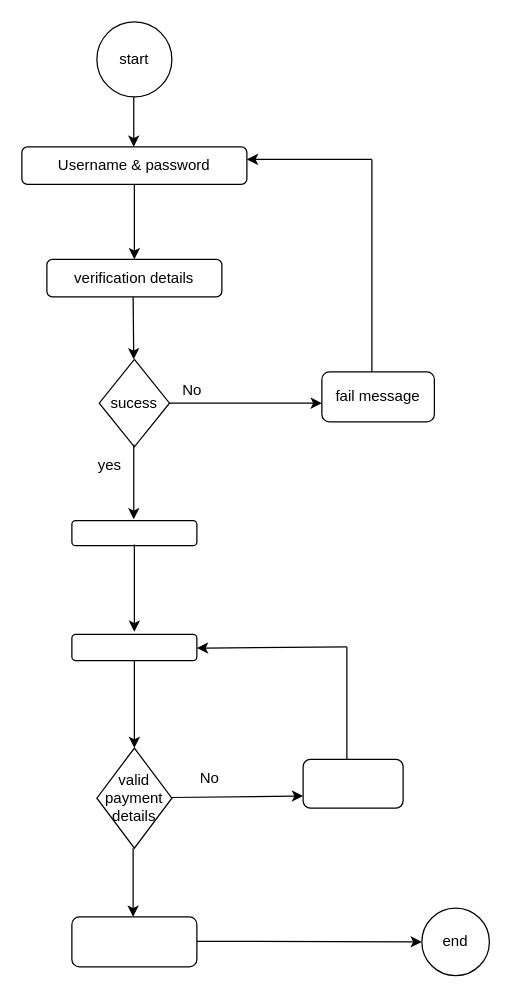
Image size: 511x998. Some labels were removed from this diagram. Each missing label, with the box of its shape:
display error: (302, 758, 403, 808)
pay with paytm: (71, 633, 197, 661)
select bill: (71, 519, 197, 546)
sucess payment: (71, 916, 197, 967)
